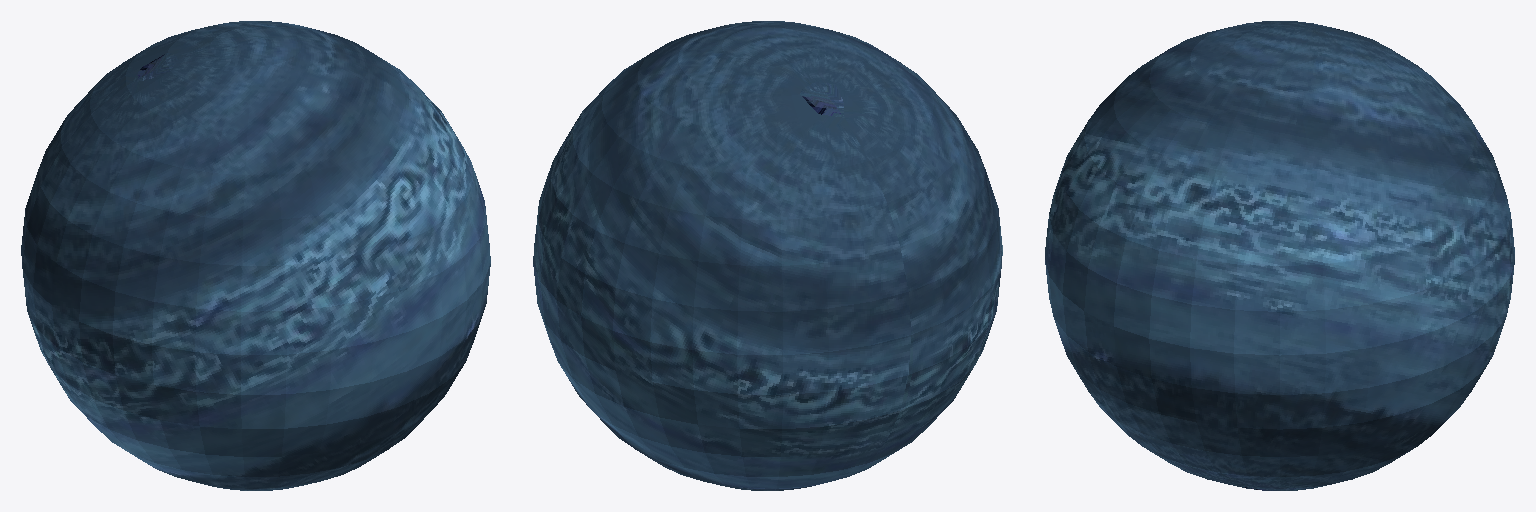
3 renders of one model, left to right at view 1: azimuth 30°, elevation 25°; view 2: azimuth 150°, elevation 25°; view 3: azimuth 270°, elevation 25°, orthographic.
Visible parts, largest first — view 1: earth_Sphere.001; view 2: earth_Sphere.001; view 3: earth_Sphere.001.
Part boxes in pixels (x1,y1,x2,y2): earth_Sphere.001: (21, 21, 490, 490); earth_Sphere.001: (533, 21, 1002, 490); earth_Sphere.001: (1045, 21, 1514, 490).
Size of the model in its own units: 2 by 2 by 2.
Materials: 1 (1 with a texture image).